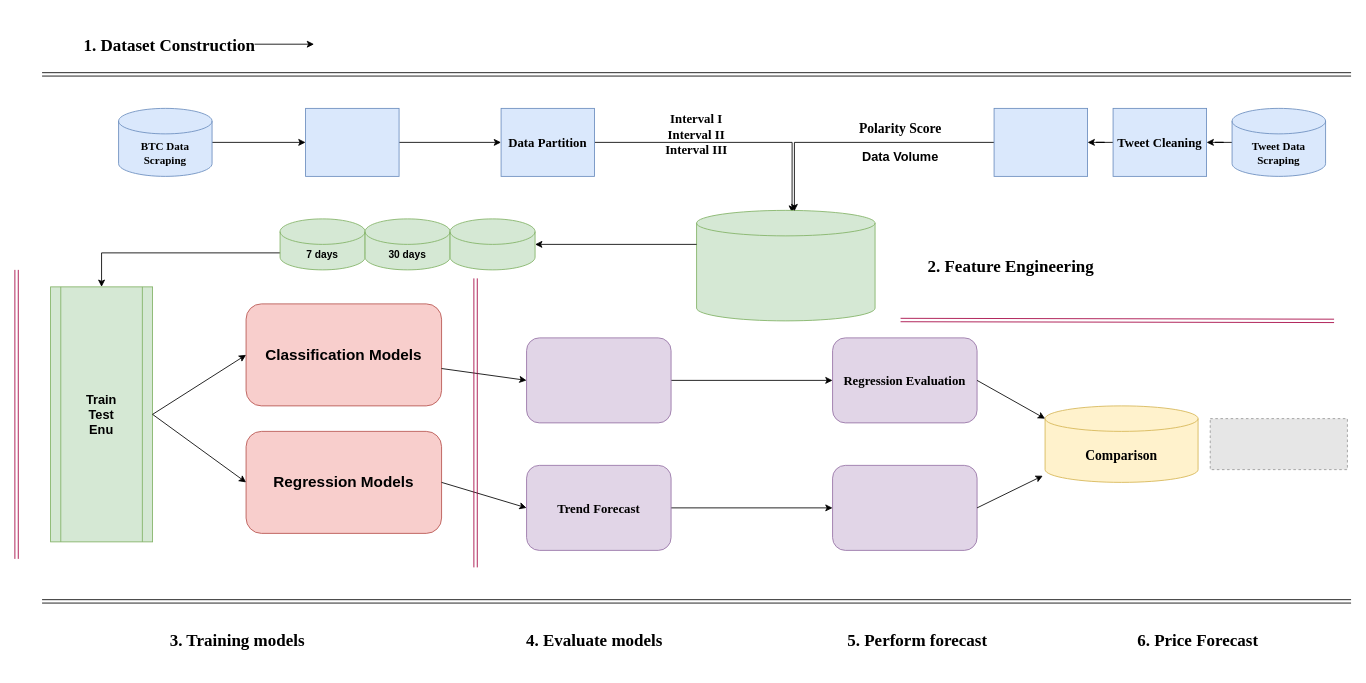
Some shapes in this 1366 by 683 pixel diagram are drawn without their labels. Grey dashed boxes stand in for pictures. Each missing label, with the centre of its shape:
"90 days" goes at (492,244).
"Classification Evaluation" goes at (904,507).
"Data Pre-process" goes at (352,142).
"Feature Selection" goes at (785,265).
"Price Prediction" goes at (598,380).
"Tweet Pre-process" goes at (1040,142).
